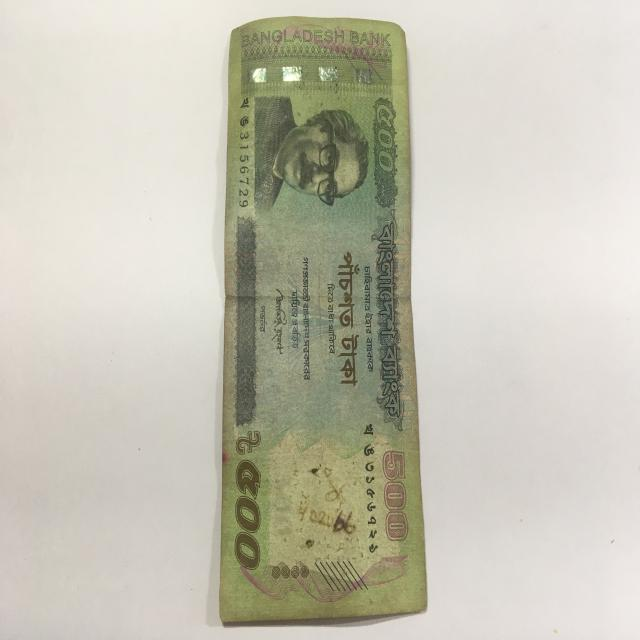Taka: (227, 11, 429, 626)
